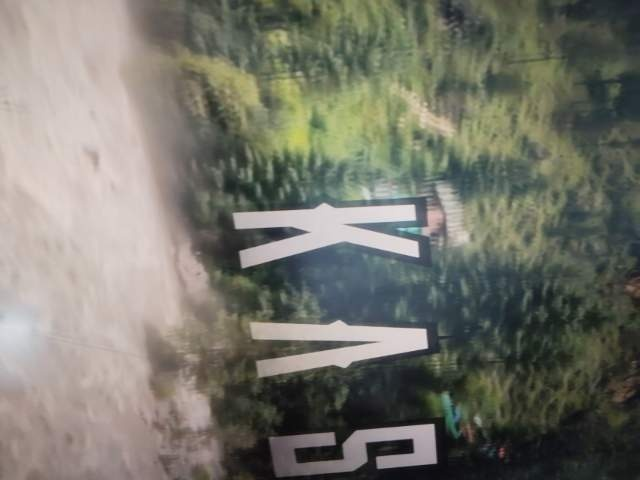pothole: (424, 311, 524, 391)
